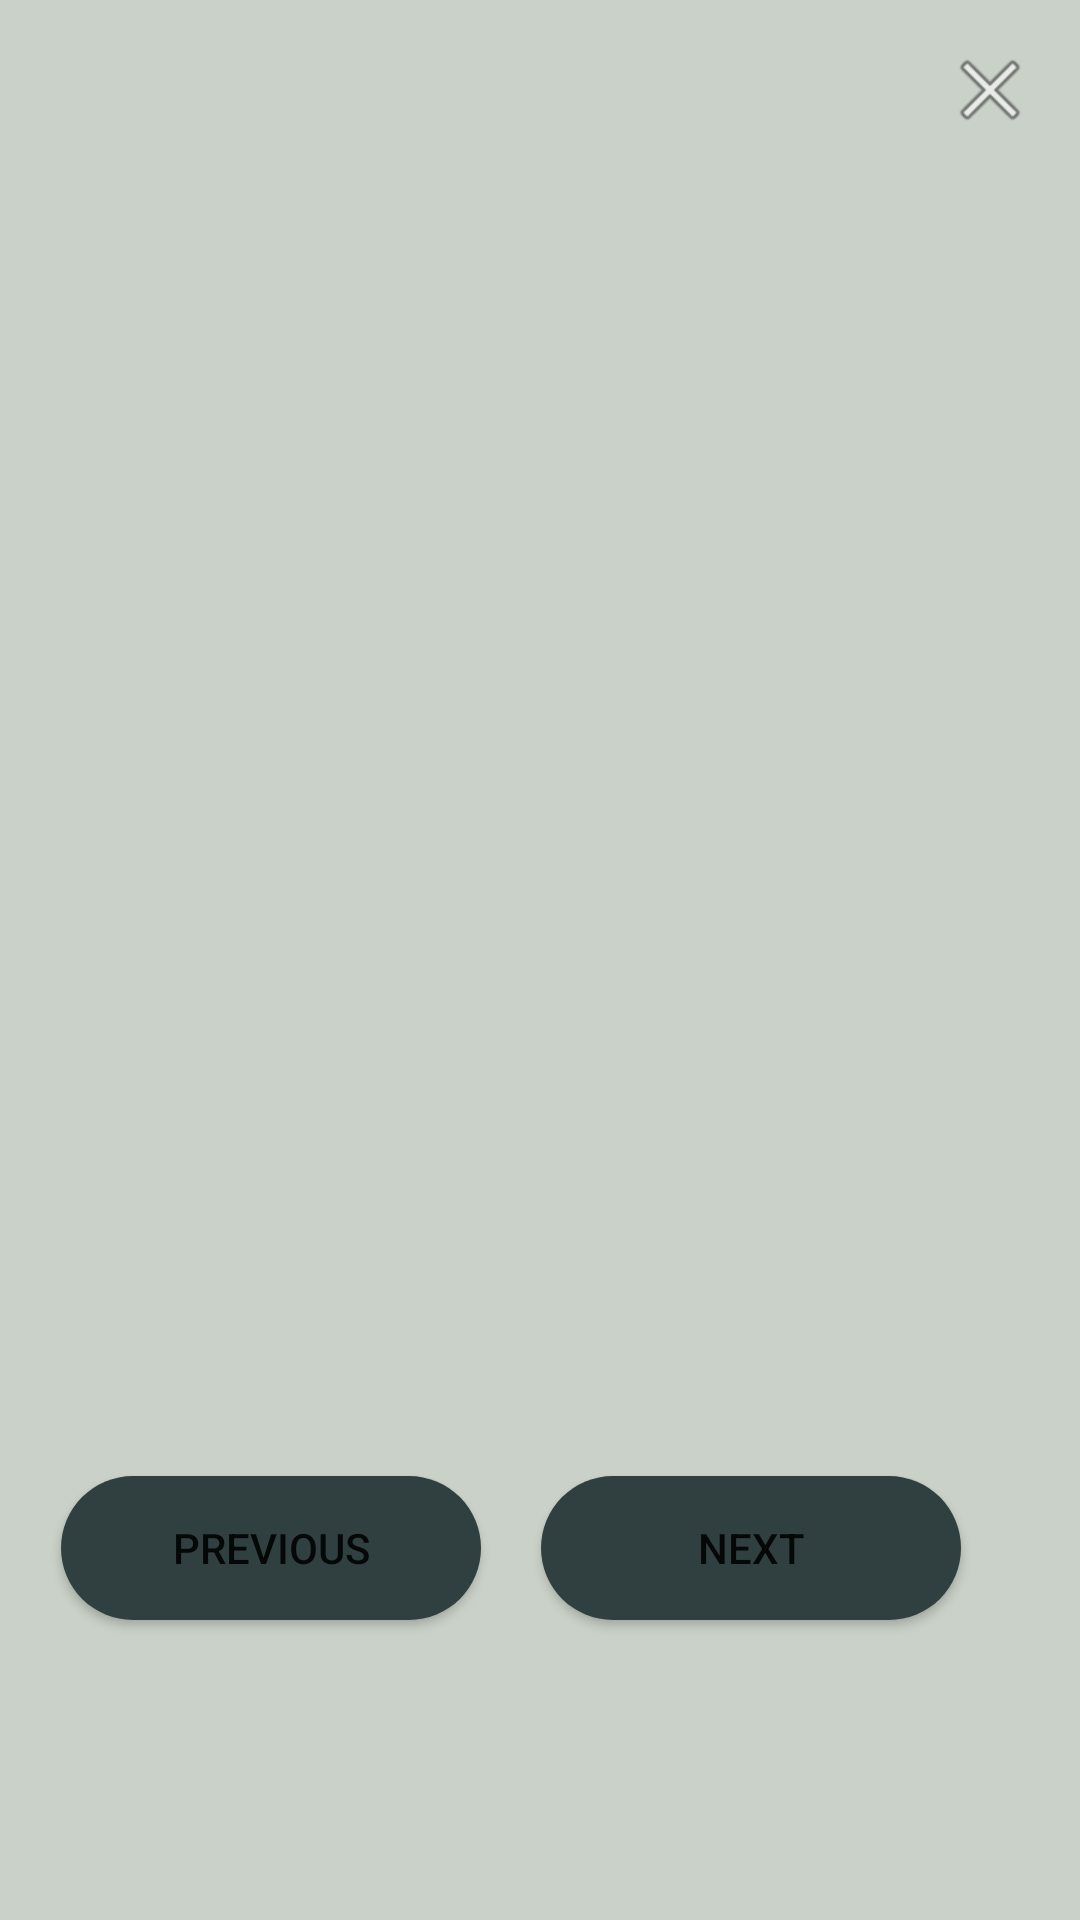

Where icons sit on this 1080px x 1920px app screen, as box(x1, y1, x2, y2):
close clear cancel: box(960, 60, 1020, 120)
